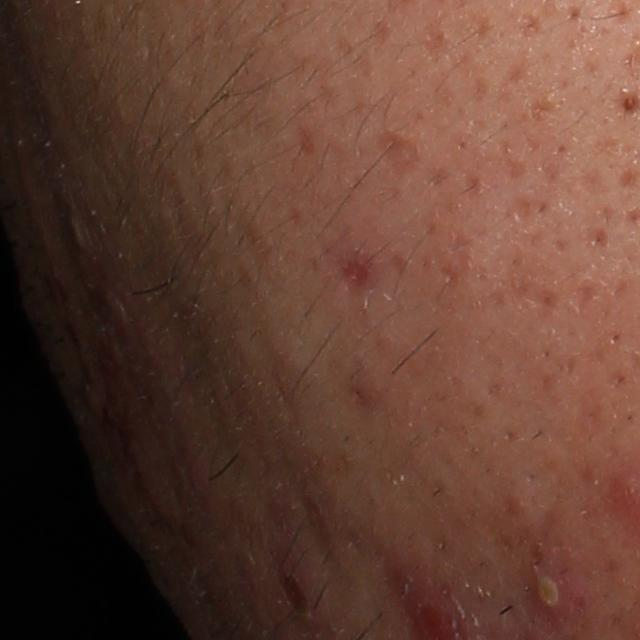atrophic_scar: (330, 249, 377, 295), (373, 127, 422, 169), (506, 188, 540, 232)
pustule: (525, 572, 572, 619)
